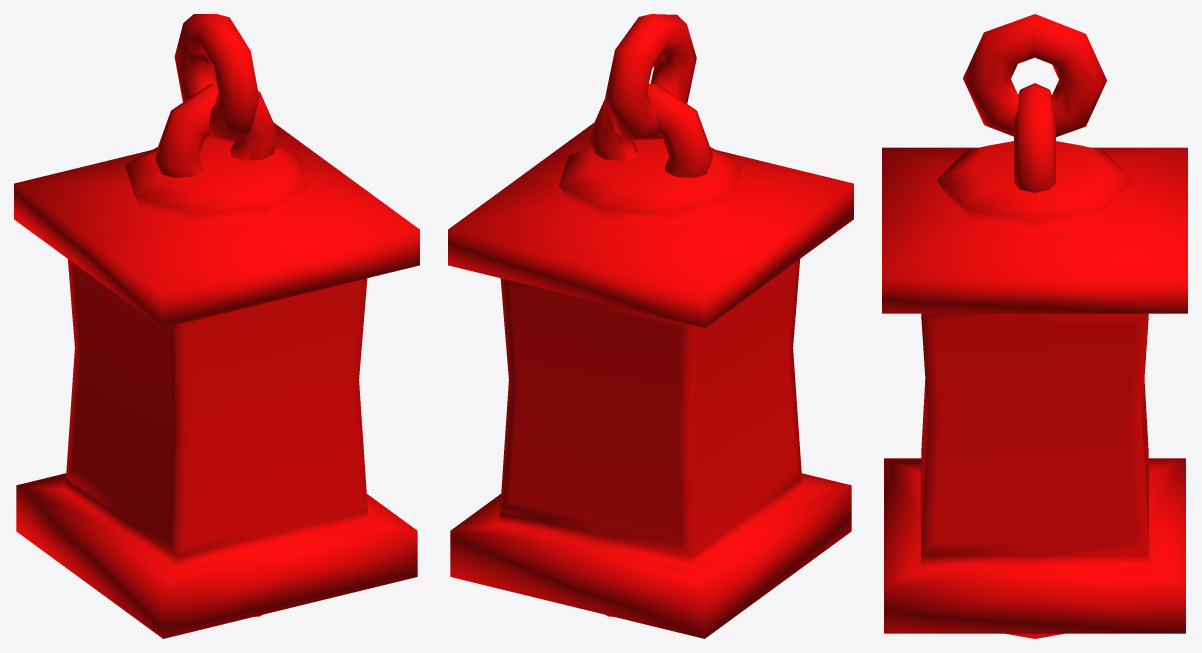
File: Lantern.fbx
3 renders of one model, left to right at view 1: azimuth 30°, elevation 25°; view 2: azimuth 150°, elevation 25°; view 3: azimuth 270°, elevation 25°, orthographic. The views are drawn at different scales.
Parts seen in each view (by area): view 1: pTorus4; view 2: pTorus4; view 3: pTorus4.
Part boxes in pixels (<box>): pTorus4: <box>14,14,419,638</box>; pTorus4: <box>448,14,853,638</box>; pTorus4: <box>882,14,1187,638</box>.
Bounding box in the file's own units: 2.3 × 4.88 × 2.3.
